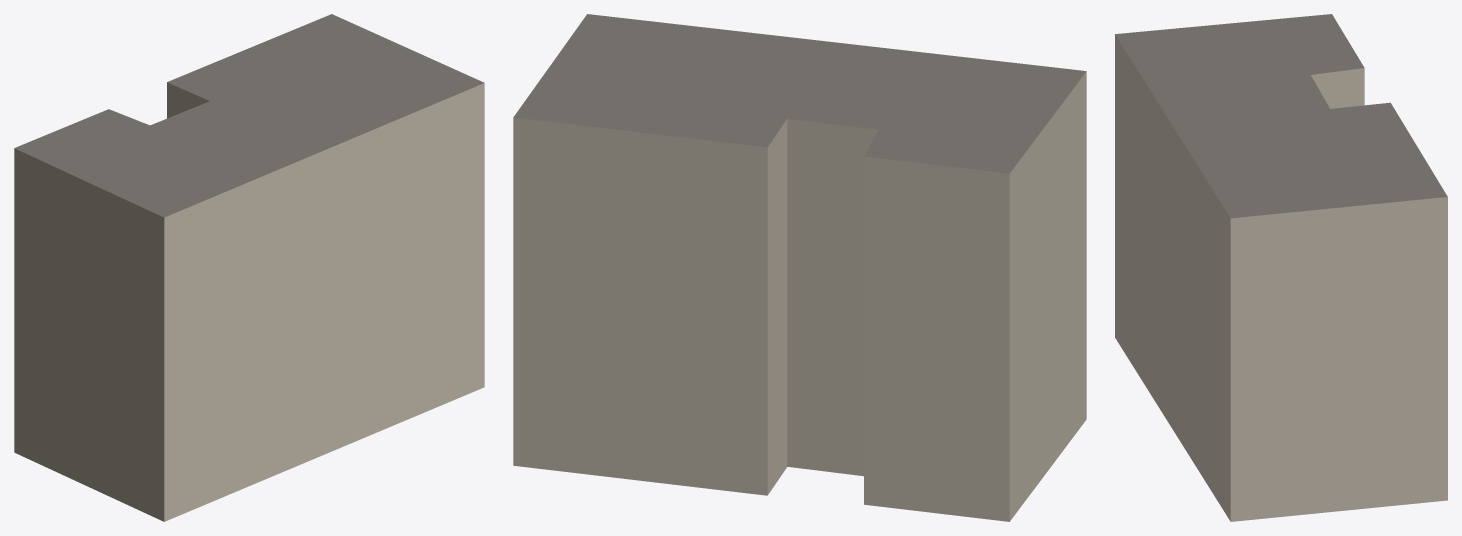
3 views of the same model, side by side, from view 1: azimuth 30°, elevation 25°; view 2: azimuth 150°, elevation 25°; view 3: azimuth 270°, elevation 25° (orthographic). The views are drawn at different scales.
Parts seen in each view (by area): view 1: HP-w505643617; view 2: HP-w505643617; view 3: HP-w505643617.
Boxes of the visible parts, left/top/right/bottom form: HP-w505643617: left=14, top=14, right=484, bottom=521; HP-w505643617: left=513, top=14, right=1086, bottom=521; HP-w505643617: left=1115, top=14, right=1447, bottom=521.
Size of the model in its own units: 21.66 by 15 by 14.9.
